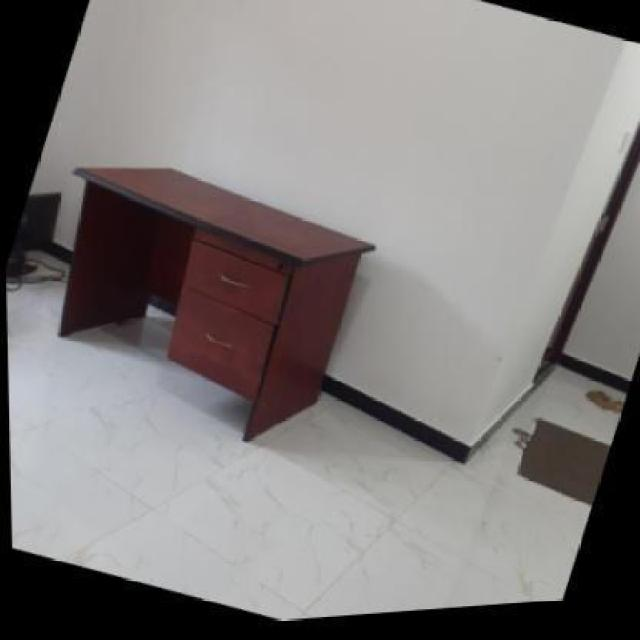tables: (57, 165, 375, 442)
